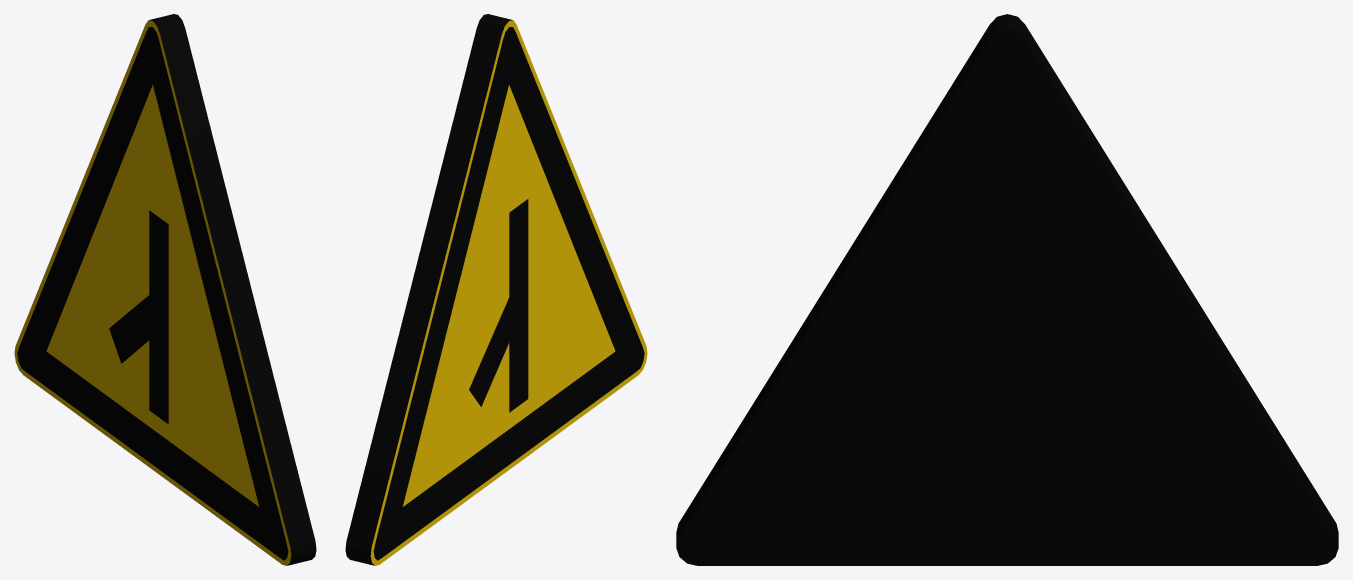
Rendered from Y_Crossing-1.fbx.
3 views of the same model, side by side, from view 1: azimuth 30°, elevation 25°; view 2: azimuth 150°, elevation 25°; view 3: azimuth 270°, elevation 25° (orthographic). The views are drawn at different scales.
Visible parts, largest first — view 1: Y_Crossing_1; view 2: Y_Crossing_1; view 3: Y_Crossing_1.
Boxes of the visible parts, x1=… form: Y_Crossing_1: x1=14, y1=14, x2=316, y2=565; Y_Crossing_1: x1=345, y1=14, x2=647, y2=565; Y_Crossing_1: x1=676, y1=14, x2=1338, y2=565.
Size of the model in its own units: 0.0643 by 1.02 by 1.14.
